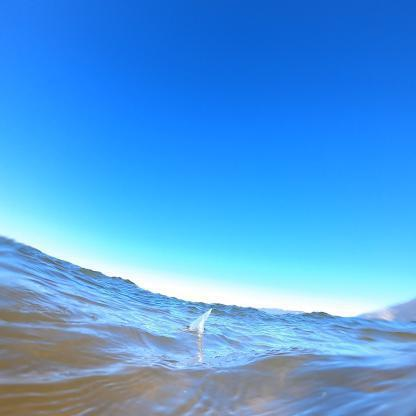Rác: (187, 301, 214, 337)
